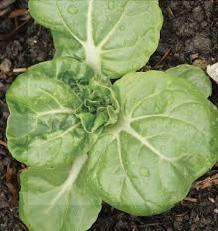Healthy-Pechay: (6, 3, 215, 230), (93, 1, 131, 51), (35, 107, 76, 119)
